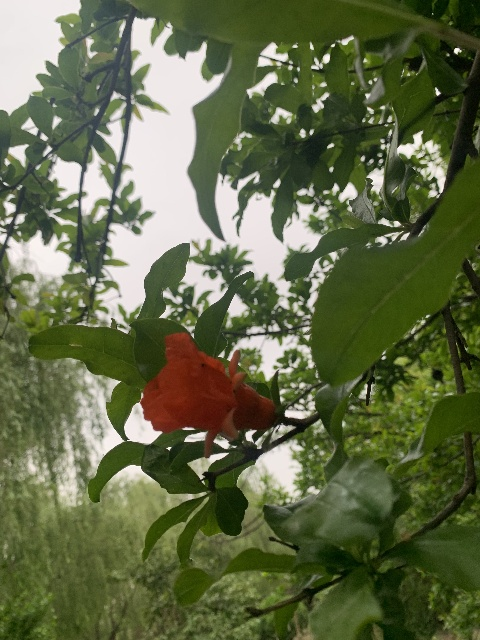flower: (140, 332, 276, 459)
